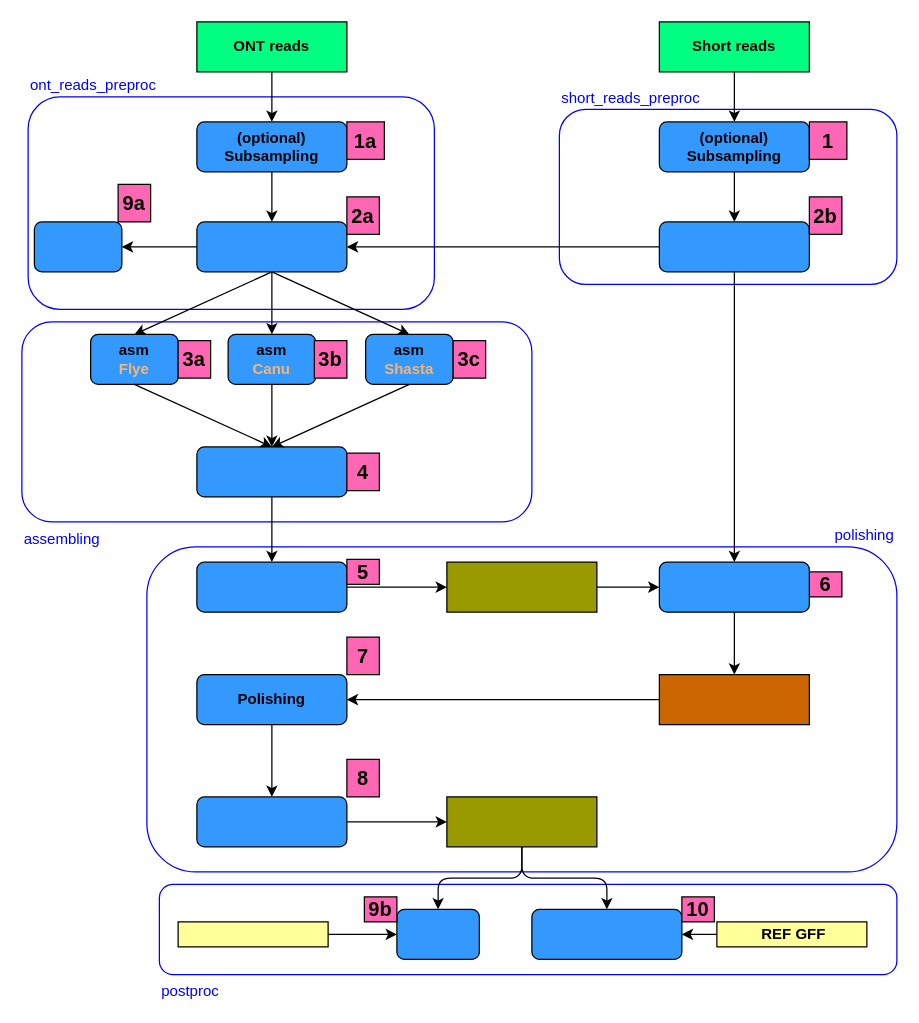
Some shapes in this 919 by 1023 pixel diagram are drawn without their labels. The shapes that lost their labels are listed below. From the top down, each one's centre as x and y in pixels, then its label:
At point 77,246: "QC ONT FQ".
At point 271,246: "Preprocessing".
At point 733,246: "Preprocessing & QC".
At point 271,471: "Metassembling".
At point 271,586: "Scaffolding".
At point 521,586: "draft FASTA".
At point 733,586: "Aligning to draft genome".
At point 733,699: "BAM".
At point 271,821: "Re-Scaffolding".
At point 521,821: "FASTA".
At point 252,934: "REF FASTA".
At point 437,933: "asm QC".
At point 606,933: "Annotation".
